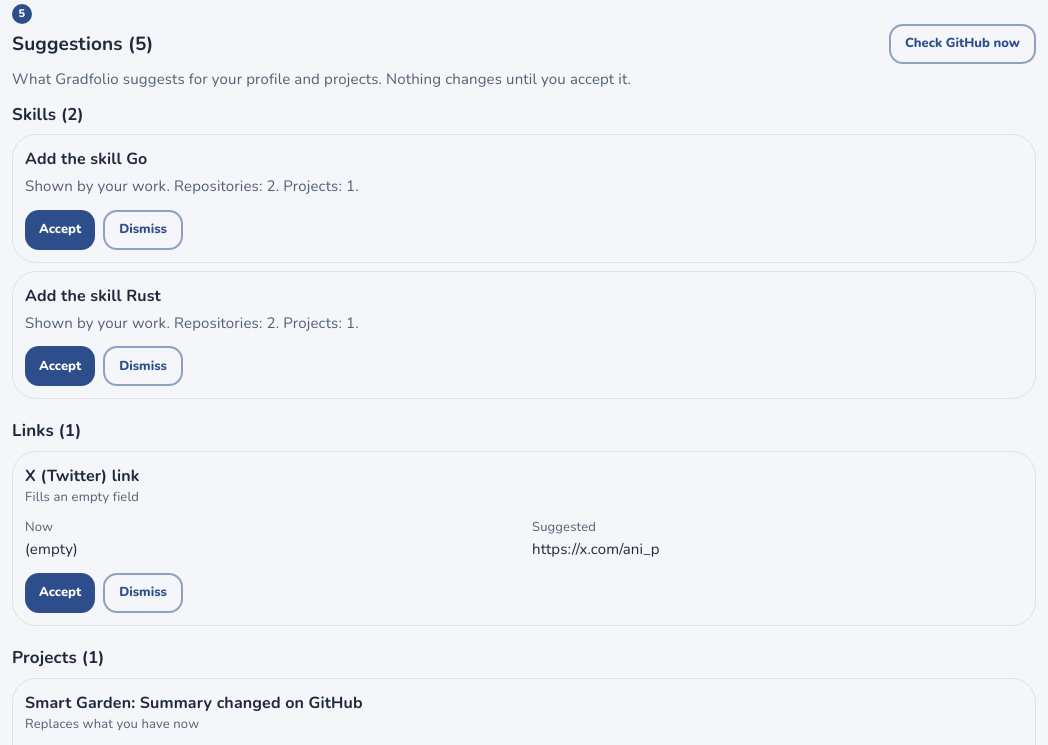
Test: the inbox › SUGGESTION_STALE: says it changed meanwhile, applies nothing, removes the card and reads again
Check: the heading "Suggestions (5)" is shown, box [12,32,154,56]
What coordinates should you click on to do the following:
click the button with aria-label "Accept: X (Twitter) link"
I would click on:
 (60, 593)
Its box is [25,573,95,613].
(page scrolled)
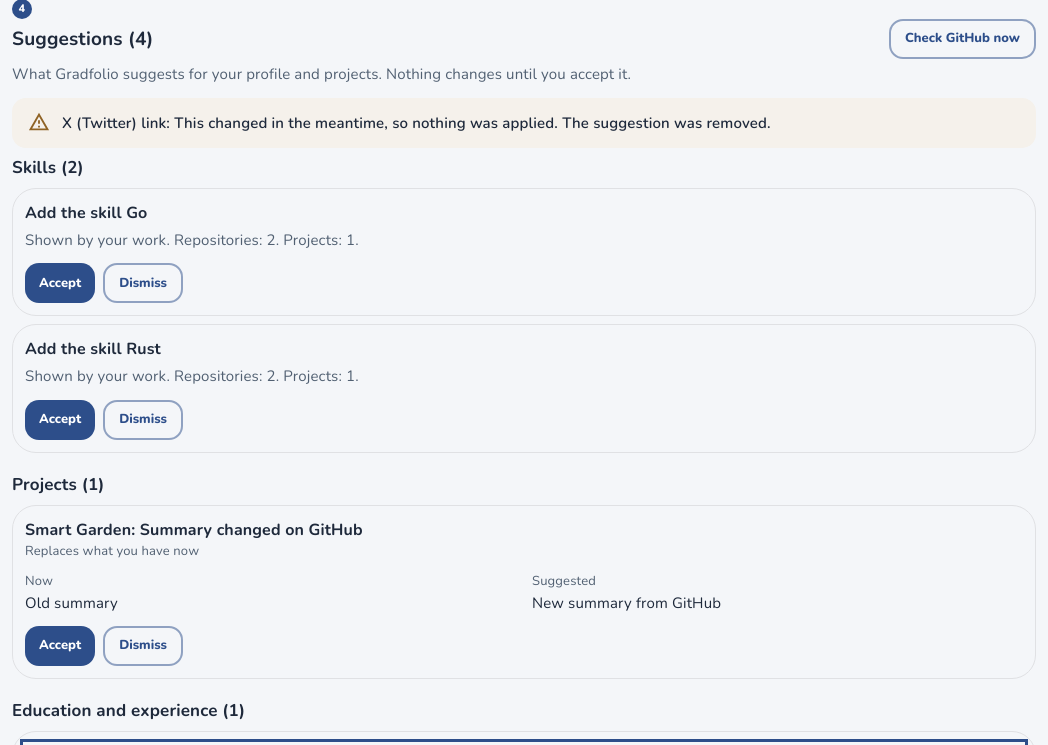
Check: the message shows "X (Twitter) link: This changed in the meantime, so nothing was applied. The suggestion was removed.", box [62,112,771,132]
